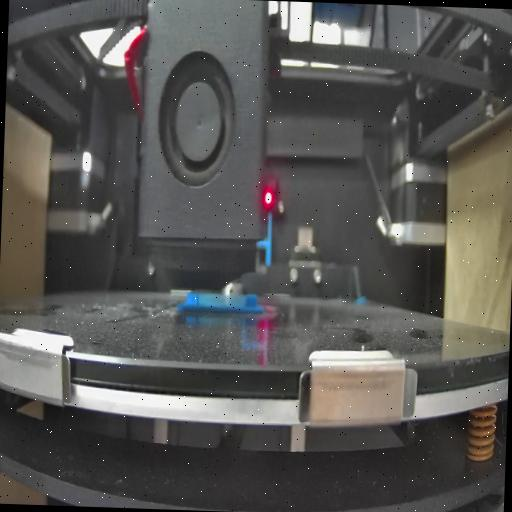stringing: (196, 290, 245, 307)
